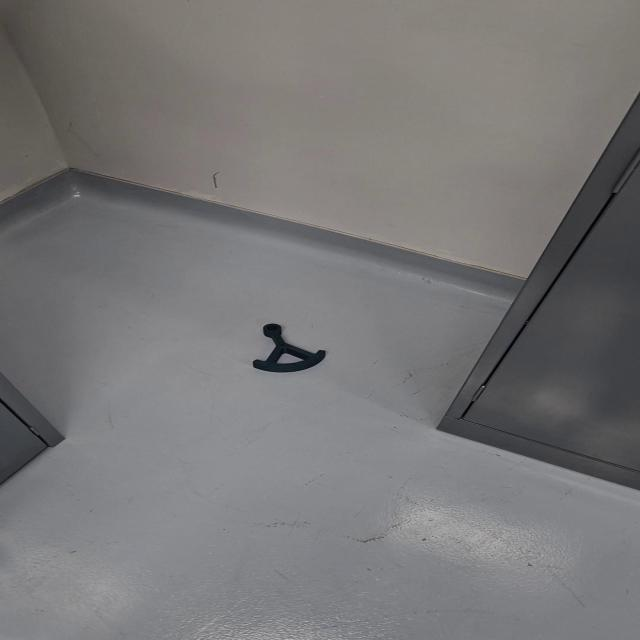haptic: (251, 323, 327, 373)
